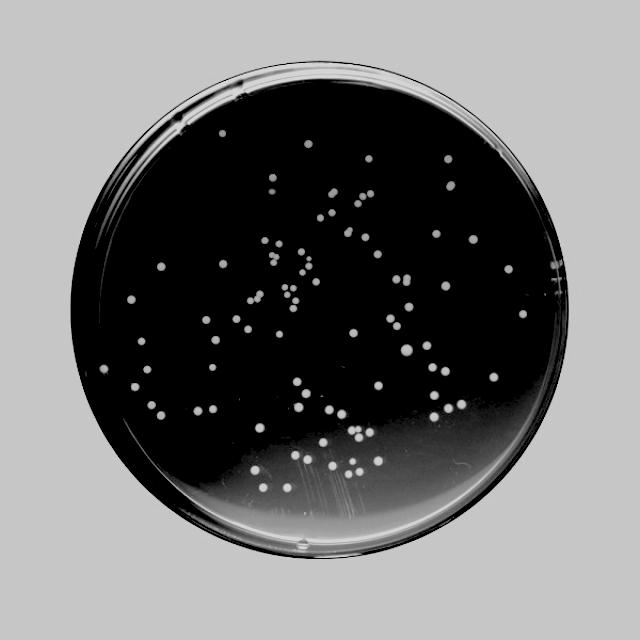colony: (270, 251, 280, 266), (400, 344, 412, 356), (445, 181, 456, 191), (328, 188, 339, 198), (402, 274, 411, 286), (255, 422, 265, 432), (374, 456, 384, 466), (429, 412, 439, 422), (489, 372, 499, 382), (441, 281, 451, 291), (126, 295, 136, 304), (201, 315, 211, 324), (250, 465, 260, 474), (259, 482, 268, 492), (282, 482, 291, 492), (355, 432, 364, 442), (301, 389, 311, 398), (441, 366, 450, 376), (469, 235, 479, 244), (304, 139, 314, 148), (269, 172, 278, 182), (361, 232, 370, 242), (156, 262, 165, 271), (130, 382, 139, 391), (211, 335, 220, 344), (219, 259, 228, 268), (319, 438, 328, 447), (365, 428, 374, 437), (325, 405, 334, 414), (386, 314, 395, 323), (405, 302, 414, 311), (194, 406, 202, 416), (294, 404, 304, 412), (504, 265, 514, 273), (142, 365, 151, 373), (148, 400, 156, 409), (156, 411, 165, 419), (209, 405, 218, 413), (232, 315, 241, 323), (291, 451, 300, 459), (355, 468, 364, 476), (292, 378, 301, 386), (275, 330, 284, 338), (444, 404, 452, 413), (430, 391, 439, 399), (422, 341, 431, 349), (349, 329, 358, 337), (519, 310, 528, 318), (432, 230, 441, 238), (365, 155, 374, 163), (366, 190, 375, 198), (246, 296, 255, 304), (275, 240, 284, 248), (392, 275, 401, 283), (100, 365, 108, 373), (138, 338, 146, 346), (244, 325, 252, 333), (304, 455, 312, 463), (338, 410, 346, 418), (458, 400, 466, 408), (392, 322, 400, 330), (444, 155, 452, 163), (268, 188, 276, 196), (328, 209, 336, 217), (261, 236, 269, 244), (374, 250, 382, 258), (429, 362, 436, 371), (359, 192, 366, 201), (316, 215, 325, 222), (329, 461, 336, 469), (345, 470, 352, 478), (348, 426, 355, 434), (375, 381, 382, 389), (219, 129, 226, 137), (354, 200, 361, 208), (256, 290, 264, 297), (281, 284, 289, 291), (290, 285, 298, 292), (312, 279, 320, 286), (346, 226, 354, 233), (209, 364, 216, 371), (254, 295, 261, 302), (289, 305, 296, 312), (284, 291, 291, 298), (298, 249, 305, 256), (299, 269, 306, 276), (305, 262, 312, 269), (344, 230, 351, 237), (291, 298, 299, 304), (349, 458, 356, 464), (270, 260, 277, 266), (355, 426, 361, 432), (306, 256, 311, 261)
